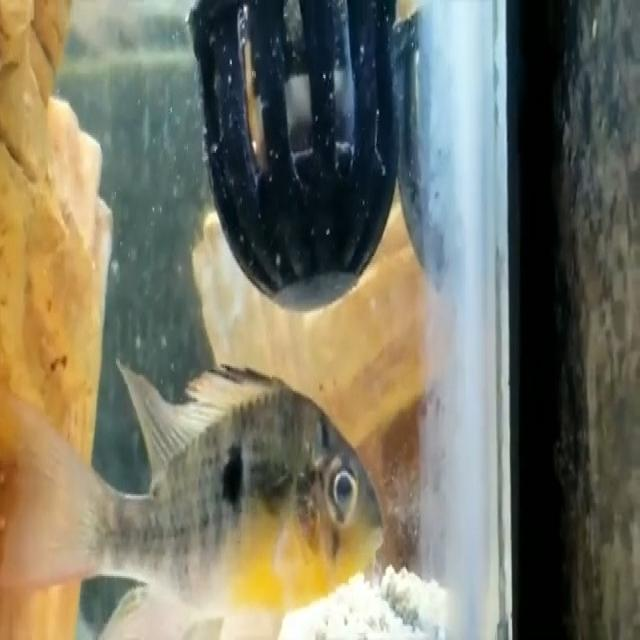fish: (2, 359, 388, 640)
